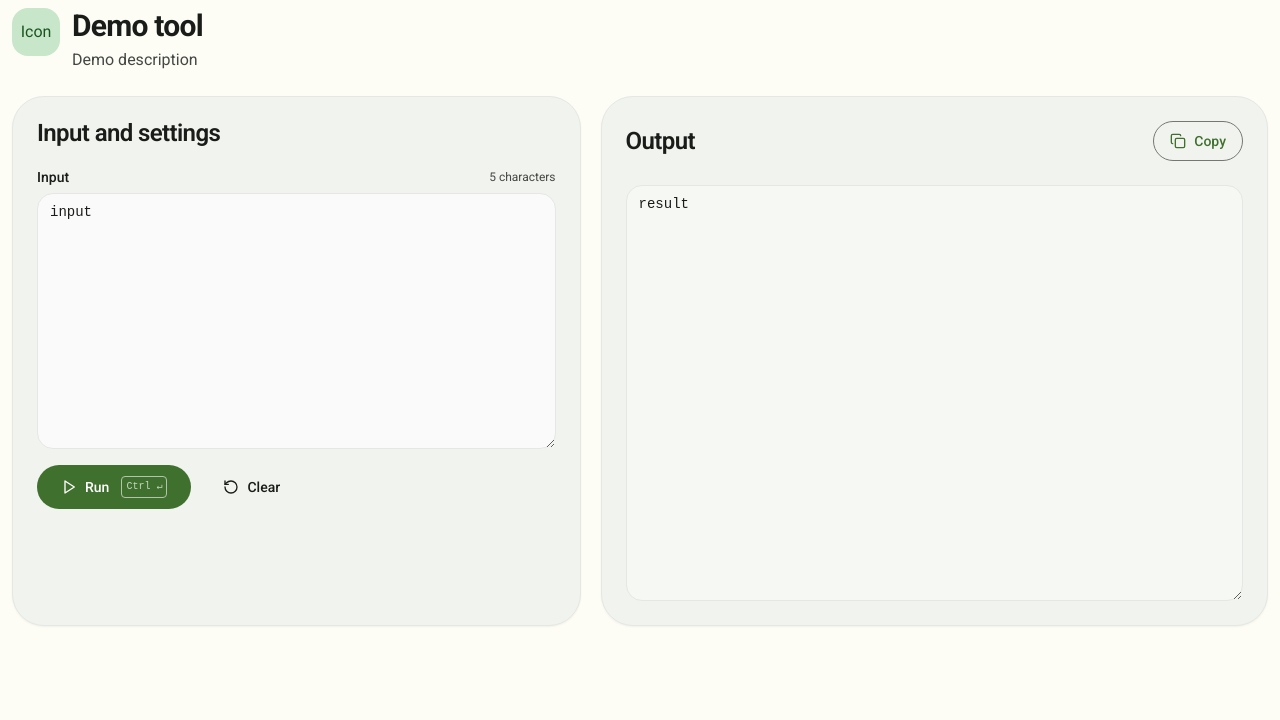
Test: UtilityWorkbench mobile layout › shows a useful message when clipboard access fails
Click the button "Copy". click: (1198, 141)
box: [1153, 121, 1243, 161]
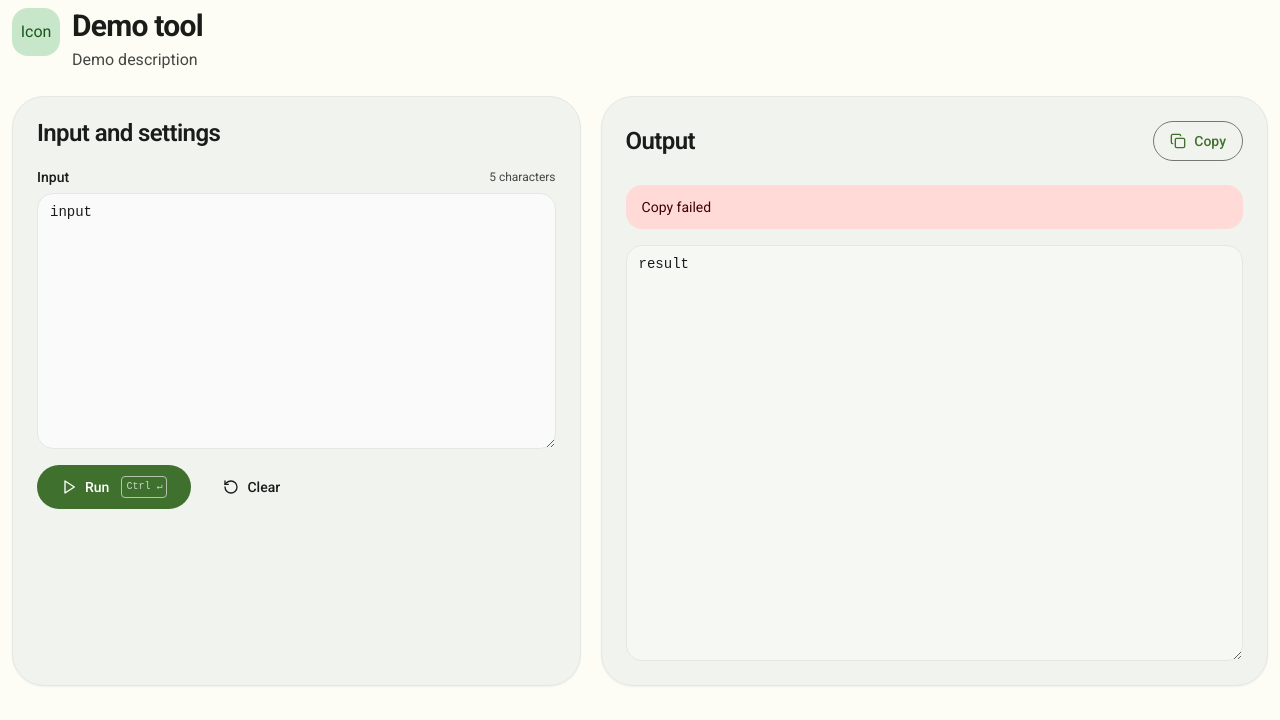
Expected: the message reads "Copy failed", [642, 199, 711, 215]
